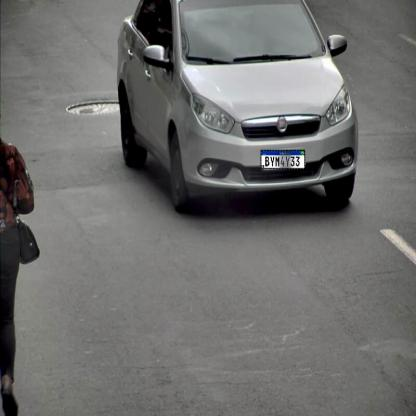PlacaM: (261, 150, 305, 169)
